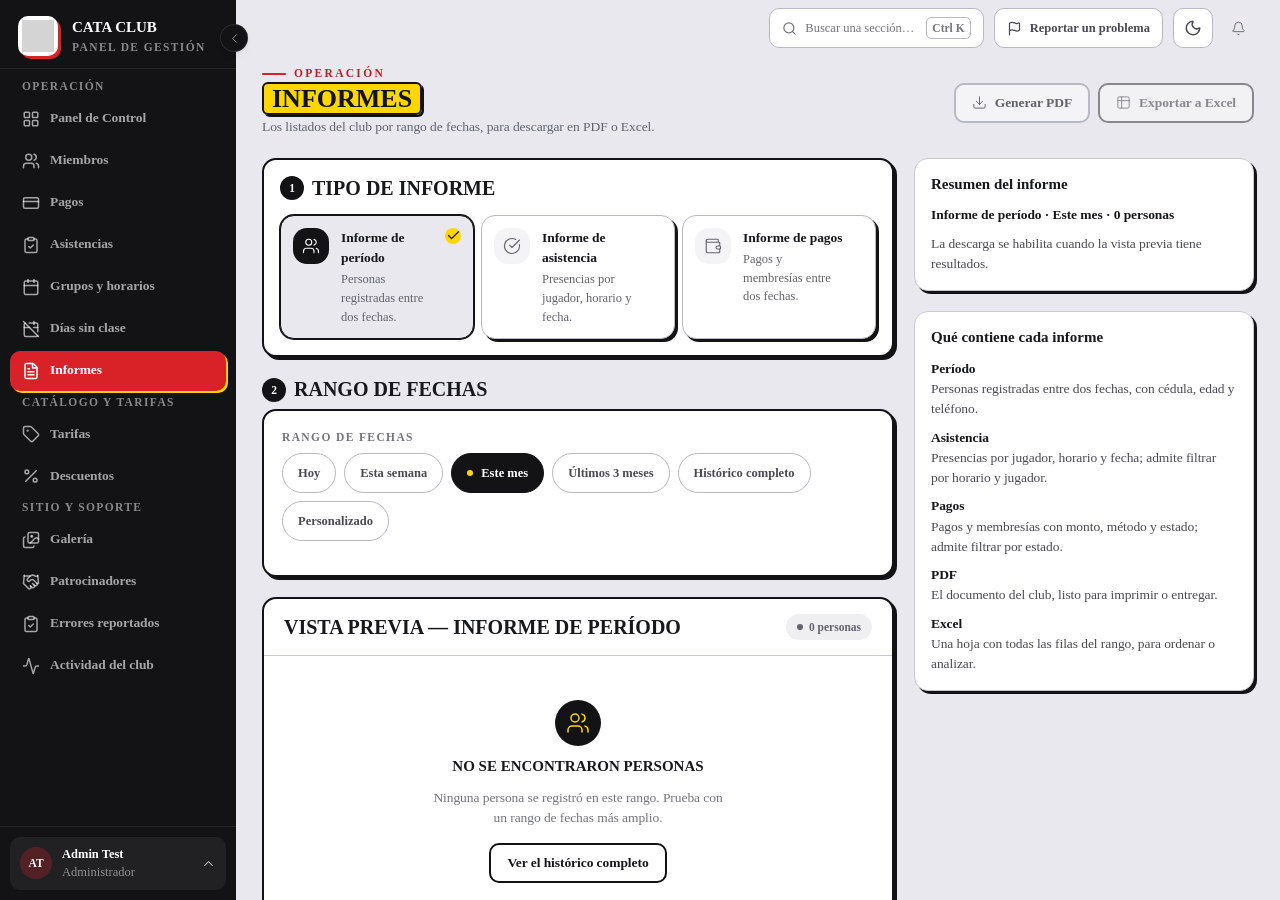
ReportsPage — preview area › generates the período preview as soon as the range is complete
Click the button "Personalizado" at (336, 522), box [282,502,389,542]
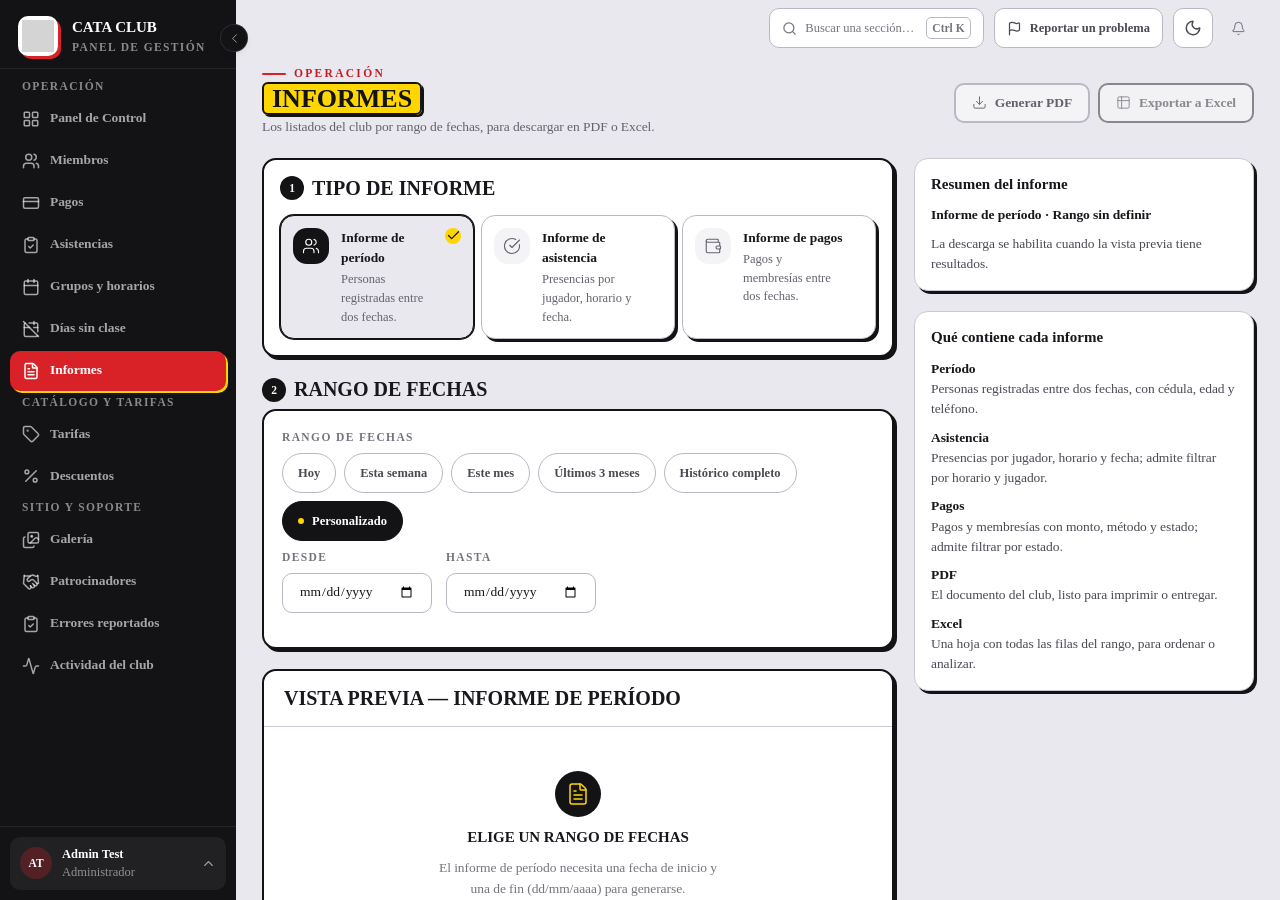
Type "2026-01-01" into the date field labelled "Desde" at (357, 593), box [282,573,432,613]
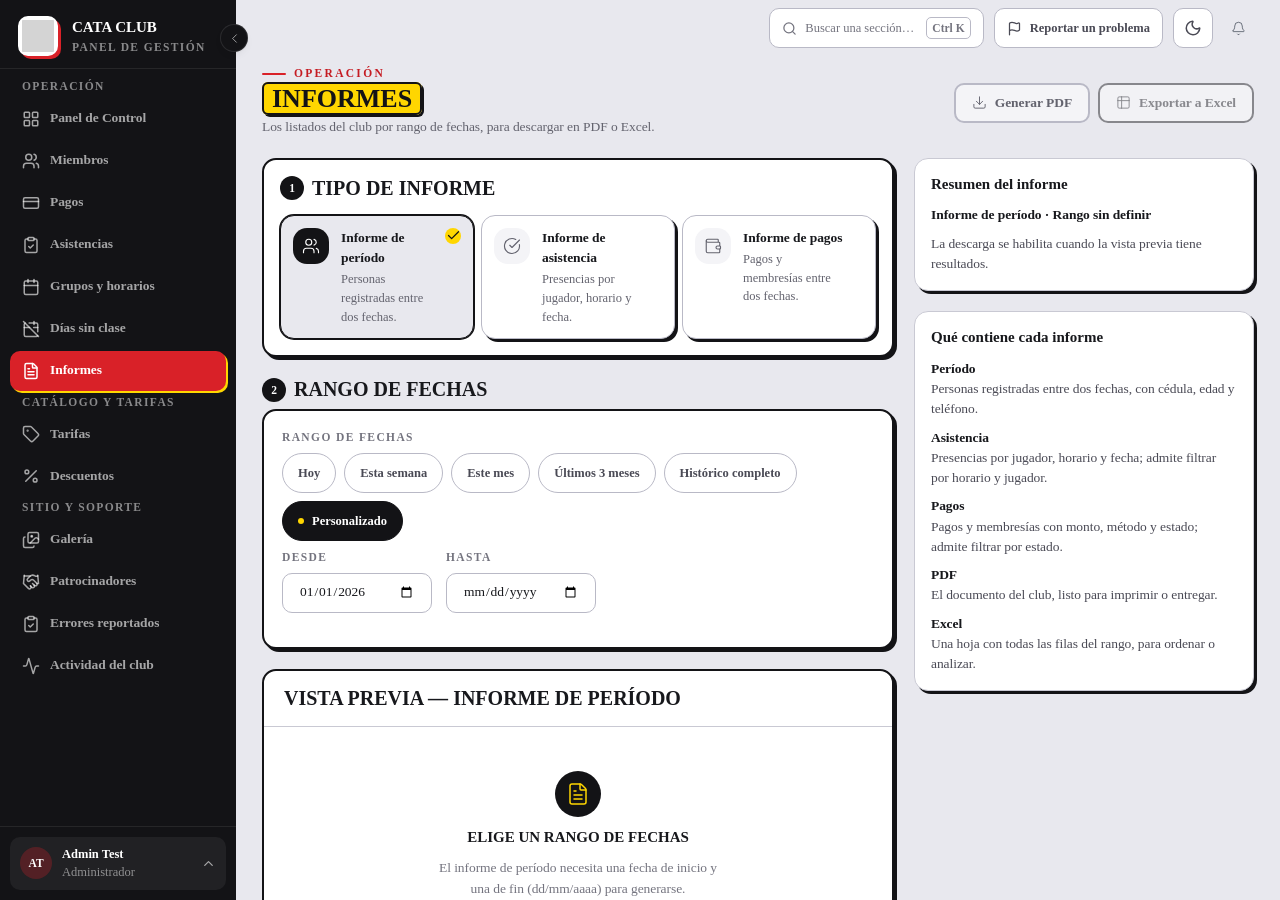
Type "2026-12-31" into the date field labelled "Hasta" at (521, 593), box [446,573,596,613]
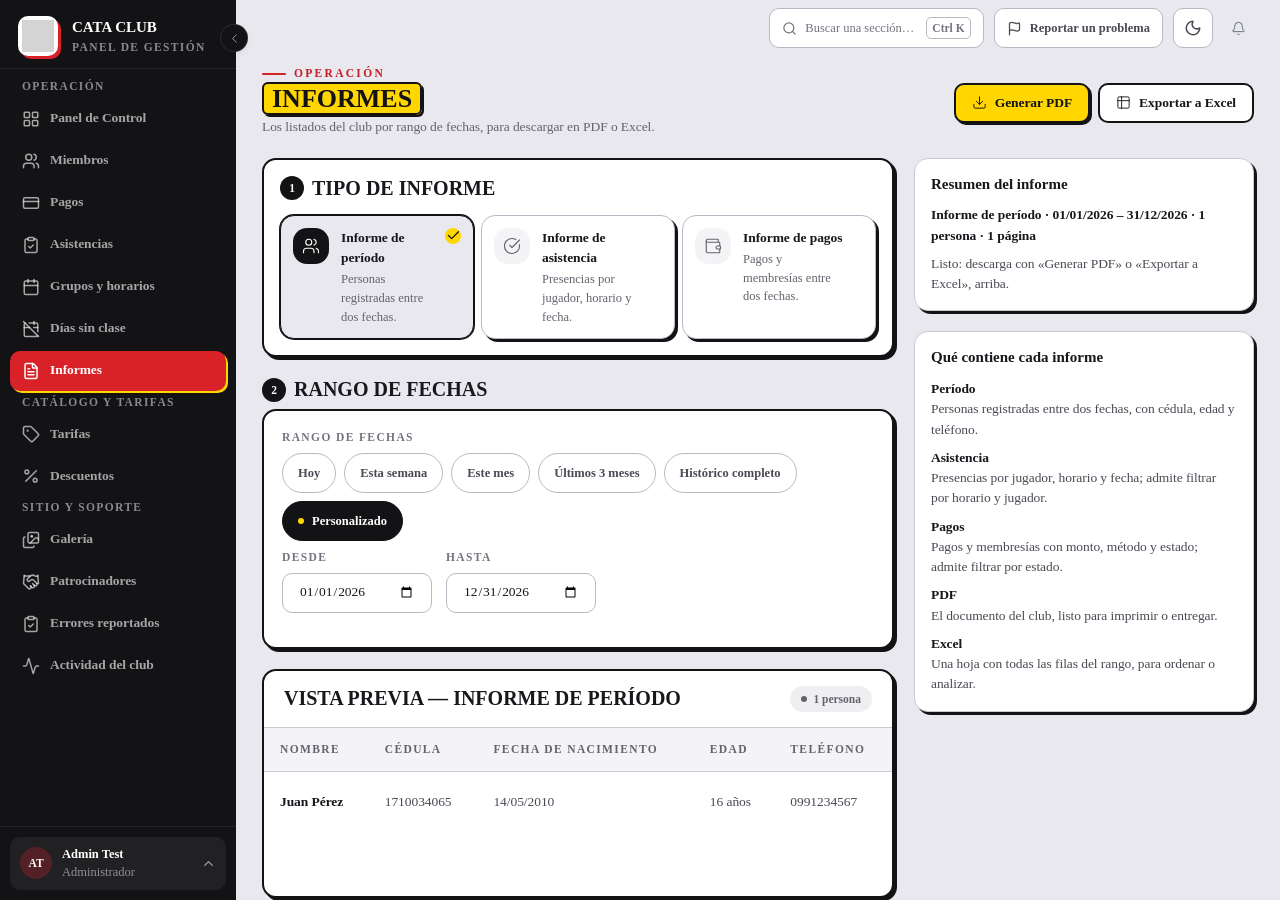
Check: the text "Juan Pérez" is shown, box [280,792,353,812]
